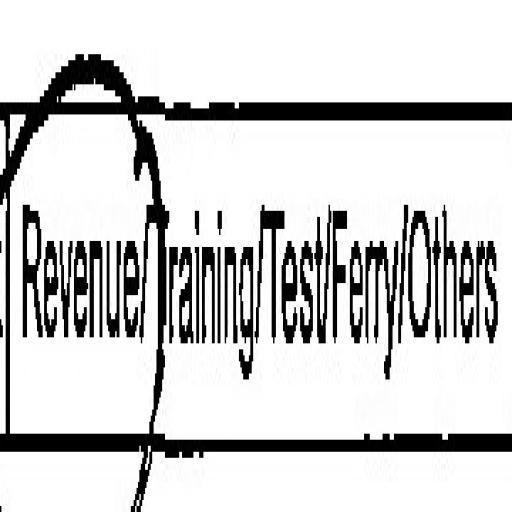check: (6, 0, 141, 512)
